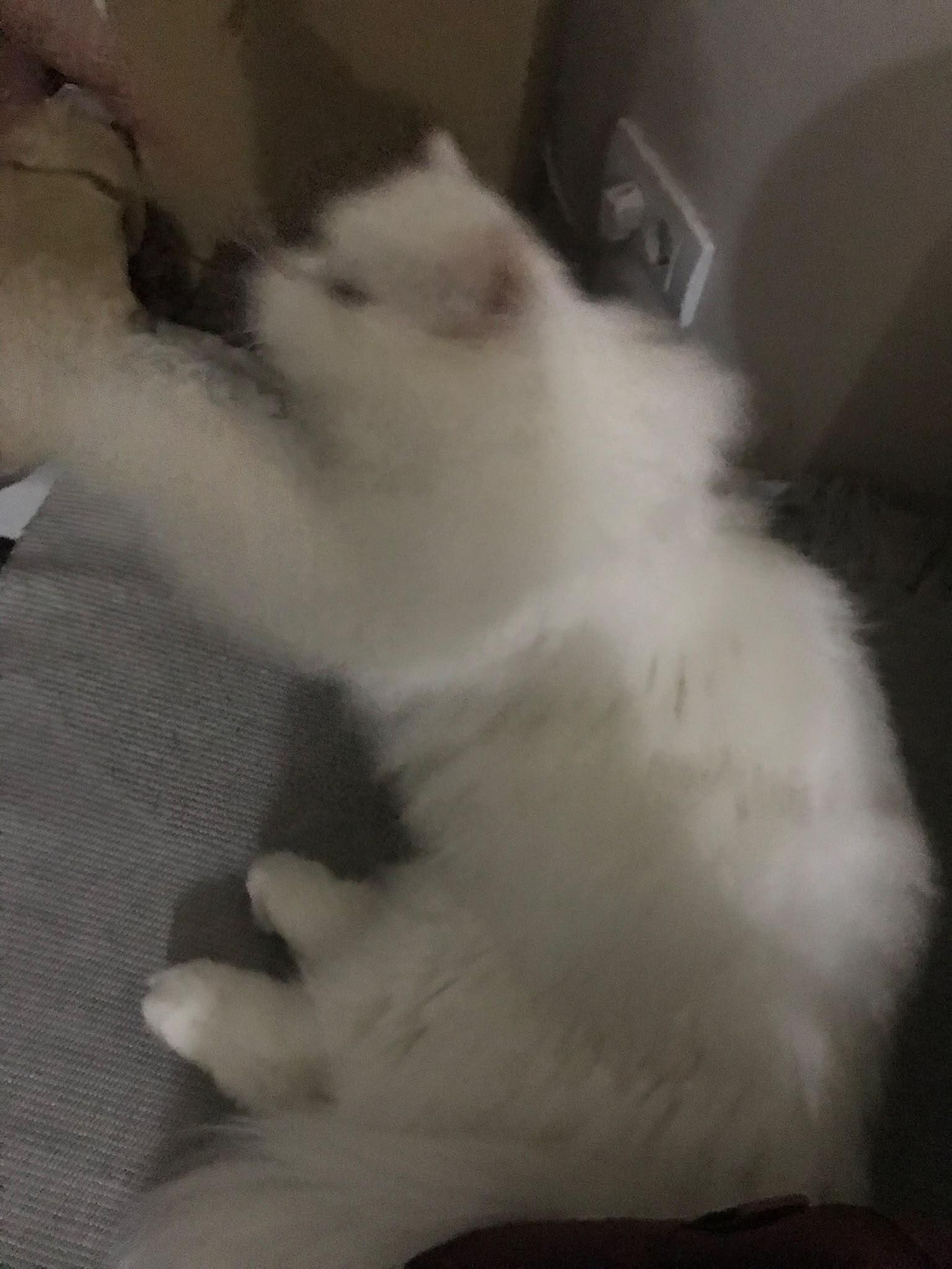macka: (81, 128, 942, 1268)
